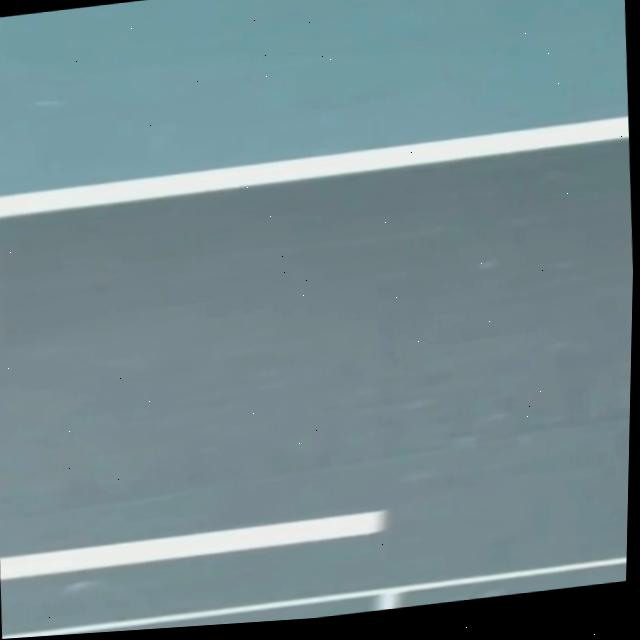center: (0, 509, 388, 579)
left: (0, 114, 629, 216)
